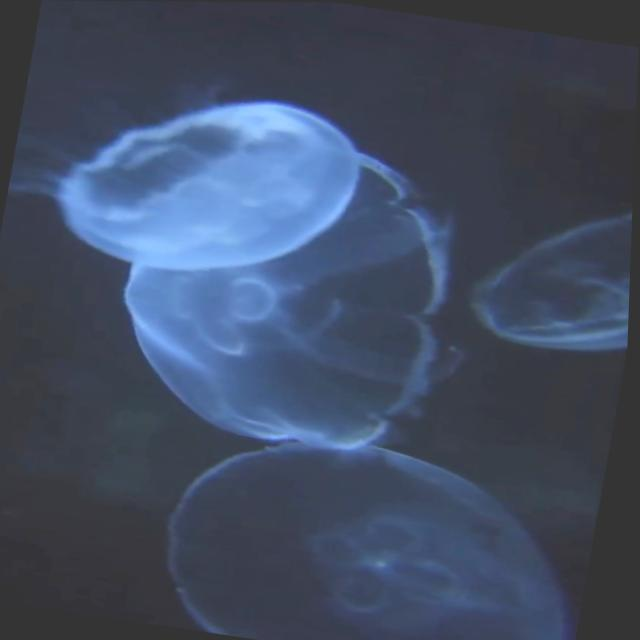Moon-jellyfish: (127, 156, 470, 448), (173, 442, 580, 640), (59, 100, 367, 270), (475, 211, 634, 349)
